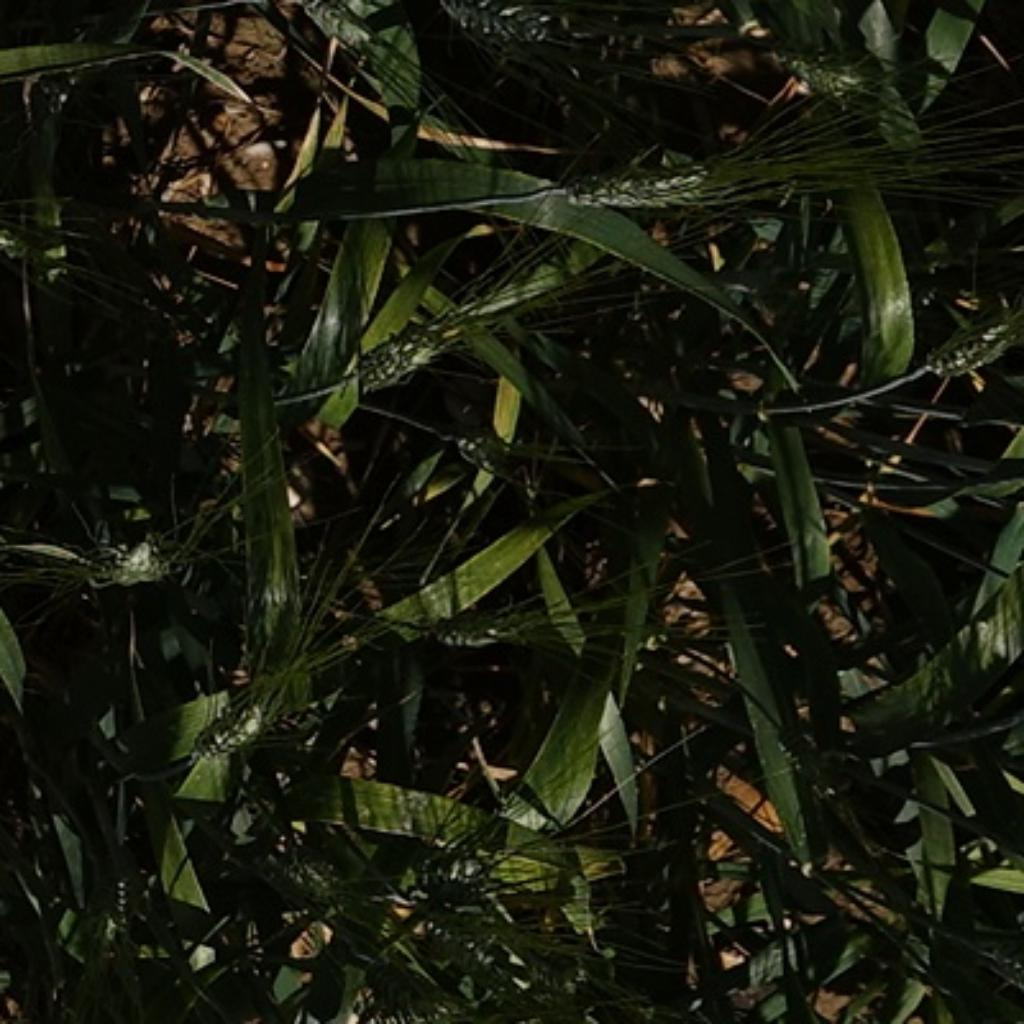0-0: (394, 814, 552, 983), (765, 0, 925, 118), (337, 276, 476, 389), (545, 145, 729, 220), (906, 279, 1024, 378), (232, 834, 360, 919), (404, 599, 555, 670), (181, 680, 286, 762), (71, 514, 189, 586), (422, 0, 563, 53), (0, 186, 61, 289), (281, 0, 386, 56)
